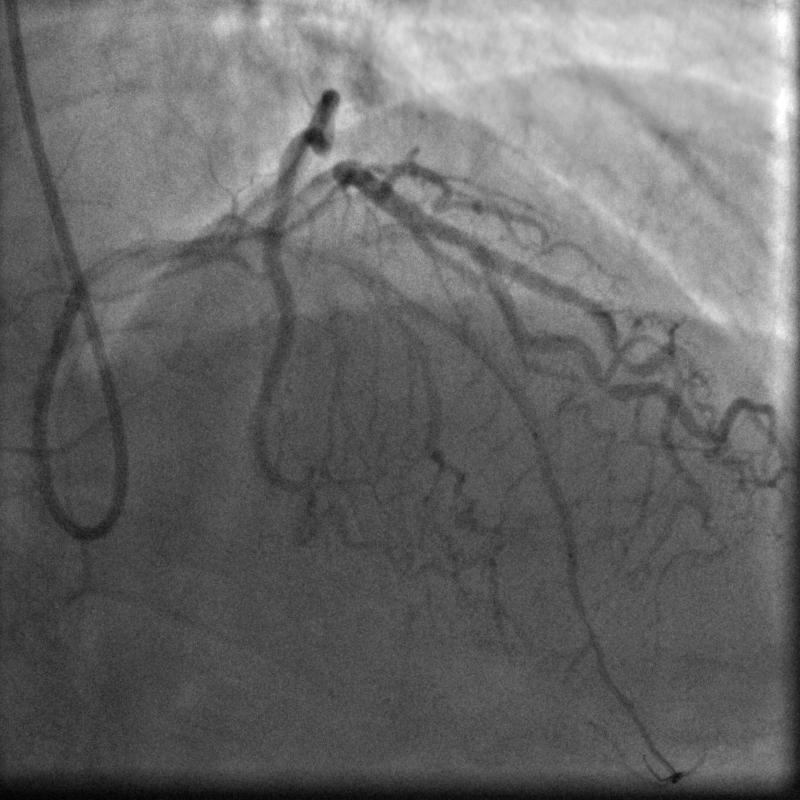Stenosis: (447, 220, 486, 261)
